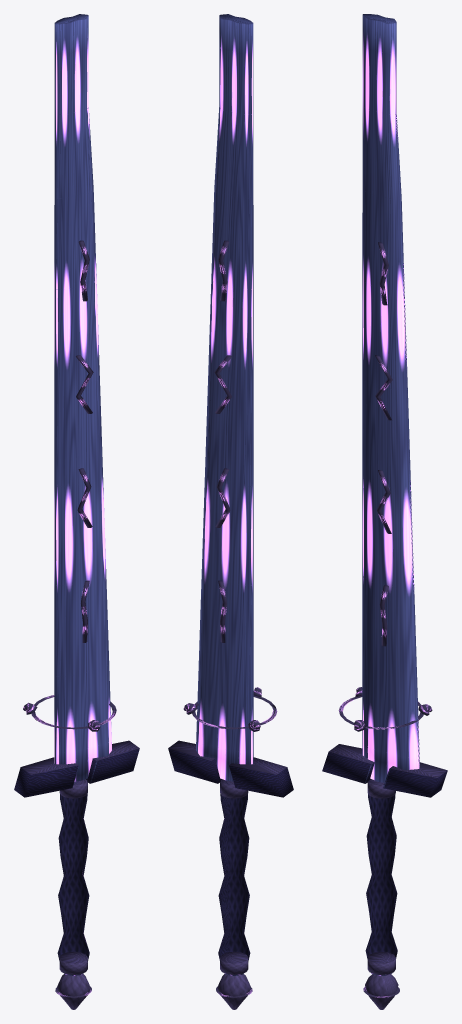
Rendered from sword_04_runebark_codex.glb.
The picture shows the model from 3 angles, left to right: view 1: azimuth 30°, elevation 25°; view 2: azimuth 150°, elevation 25°; view 3: azimuth 330°, elevation 25°; orthographic projection.
Visible parts, largest first — view 1: Blade_RunebarkCodexBlade, Grip_RuneScriptHilt, Guard_CodexCoverSlabs, Inlay_RunicGlyphColumns, Ferrule_ArcaneBronze, Pommel_RuneSealStamp, Core_ArcaneCodexHeart; view 2: Blade_RunebarkCodexBlade, Grip_RuneScriptHilt, Guard_CodexCoverSlabs, Inlay_RunicGlyphColumns, Ferrule_ArcaneBronze, Pommel_RuneSealStamp, Core_ArcaneCodexHeart; view 3: Blade_RunebarkCodexBlade, Grip_RuneScriptHilt, Guard_CodexCoverSlabs, Inlay_RunicGlyphColumns, Ferrule_ArcaneBronze, Pommel_RuneSealStamp, Core_ArcaneCodexHeart.
Boxes of the visible parts, left/top/right/bottom form: Blade_RunebarkCodexBlade: left=54, top=14, right=111, bottom=781; Grip_RuneScriptHilt: left=57, top=782, right=89, bottom=975; Guard_CodexCoverSlabs: left=14, top=740, right=139, bottom=797; Inlay_RunicGlyphColumns: left=76, top=240, right=93, bottom=642; Ferrule_ArcaneBronze: left=59, top=779, right=87, bottom=974; Pommel_RuneSealStamp: left=55, top=974, right=91, bottom=1009; Core_ArcaneCodexHeart: left=23, top=695, right=116, bottom=731; Blade_RunebarkCodexBlade: left=196, top=14, right=253, bottom=781; Grip_RuneScriptHilt: left=218, top=782, right=250, bottom=975; Guard_CodexCoverSlabs: left=168, top=740, right=293, bottom=797; Inlay_RunicGlyphColumns: left=214, top=240, right=231, bottom=642; Ferrule_ArcaneBronze: left=220, top=779, right=248, bottom=974; Pommel_RuneSealStamp: left=216, top=974, right=252, bottom=1009; Core_ArcaneCodexHeart: left=183, top=687, right=277, bottom=731; Blade_RunebarkCodexBlade: left=362, top=14, right=419, bottom=782; Grip_RuneScriptHilt: left=365, top=794, right=397, bottom=975; Guard_CodexCoverSlabs: left=322, top=744, right=447, bottom=797; Inlay_RunicGlyphColumns: left=375, top=242, right=392, bottom=646; Ferrule_ArcaneBronze: left=367, top=779, right=395, bottom=974; Pommel_RuneSealStamp: left=363, top=974, right=399, bottom=1009; Core_ArcaneCodexHeart: left=338, top=687, right=432, bottom=731.
Size of the model in its own units: 0.3168 by 2.6 by 0.2239.
Materials: 1 (1 with a texture image).
